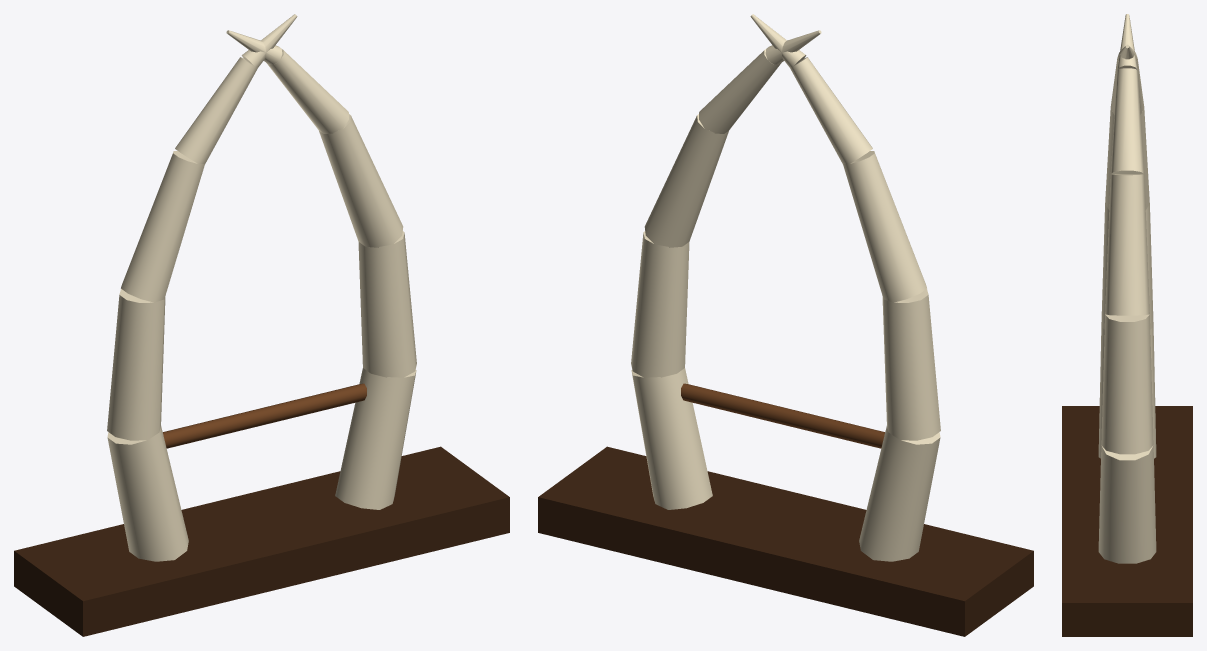
File: defenses.glb
3 renders of one model, left to right at view 1: azimuth 30°, elevation 25°; view 2: azimuth 150°, elevation 25°; view 3: azimuth 270°, elevation 25°, orthographic. The views are drawn at different scales.
Parts seen in each view (by area): view 1: defenses; view 2: defenses; view 3: defenses.
Part boxes in pixels (box(x1,y1,x2,y2)): defenses: box(14, 14, 509, 636); defenses: box(538, 14, 1033, 636); defenses: box(1062, 14, 1192, 636).
Size of the model in its own units: 1 by 1.2 by 0.28.
